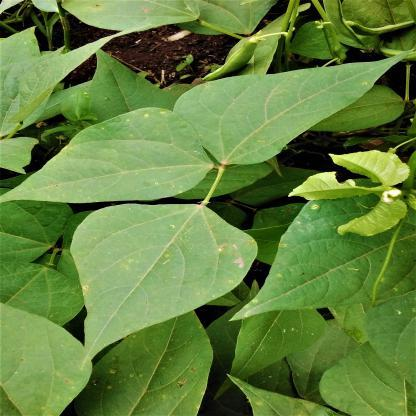Beans_Rust: (76, 205, 257, 366), (227, 180, 416, 320), (0, 105, 206, 202), (80, 305, 216, 416)
